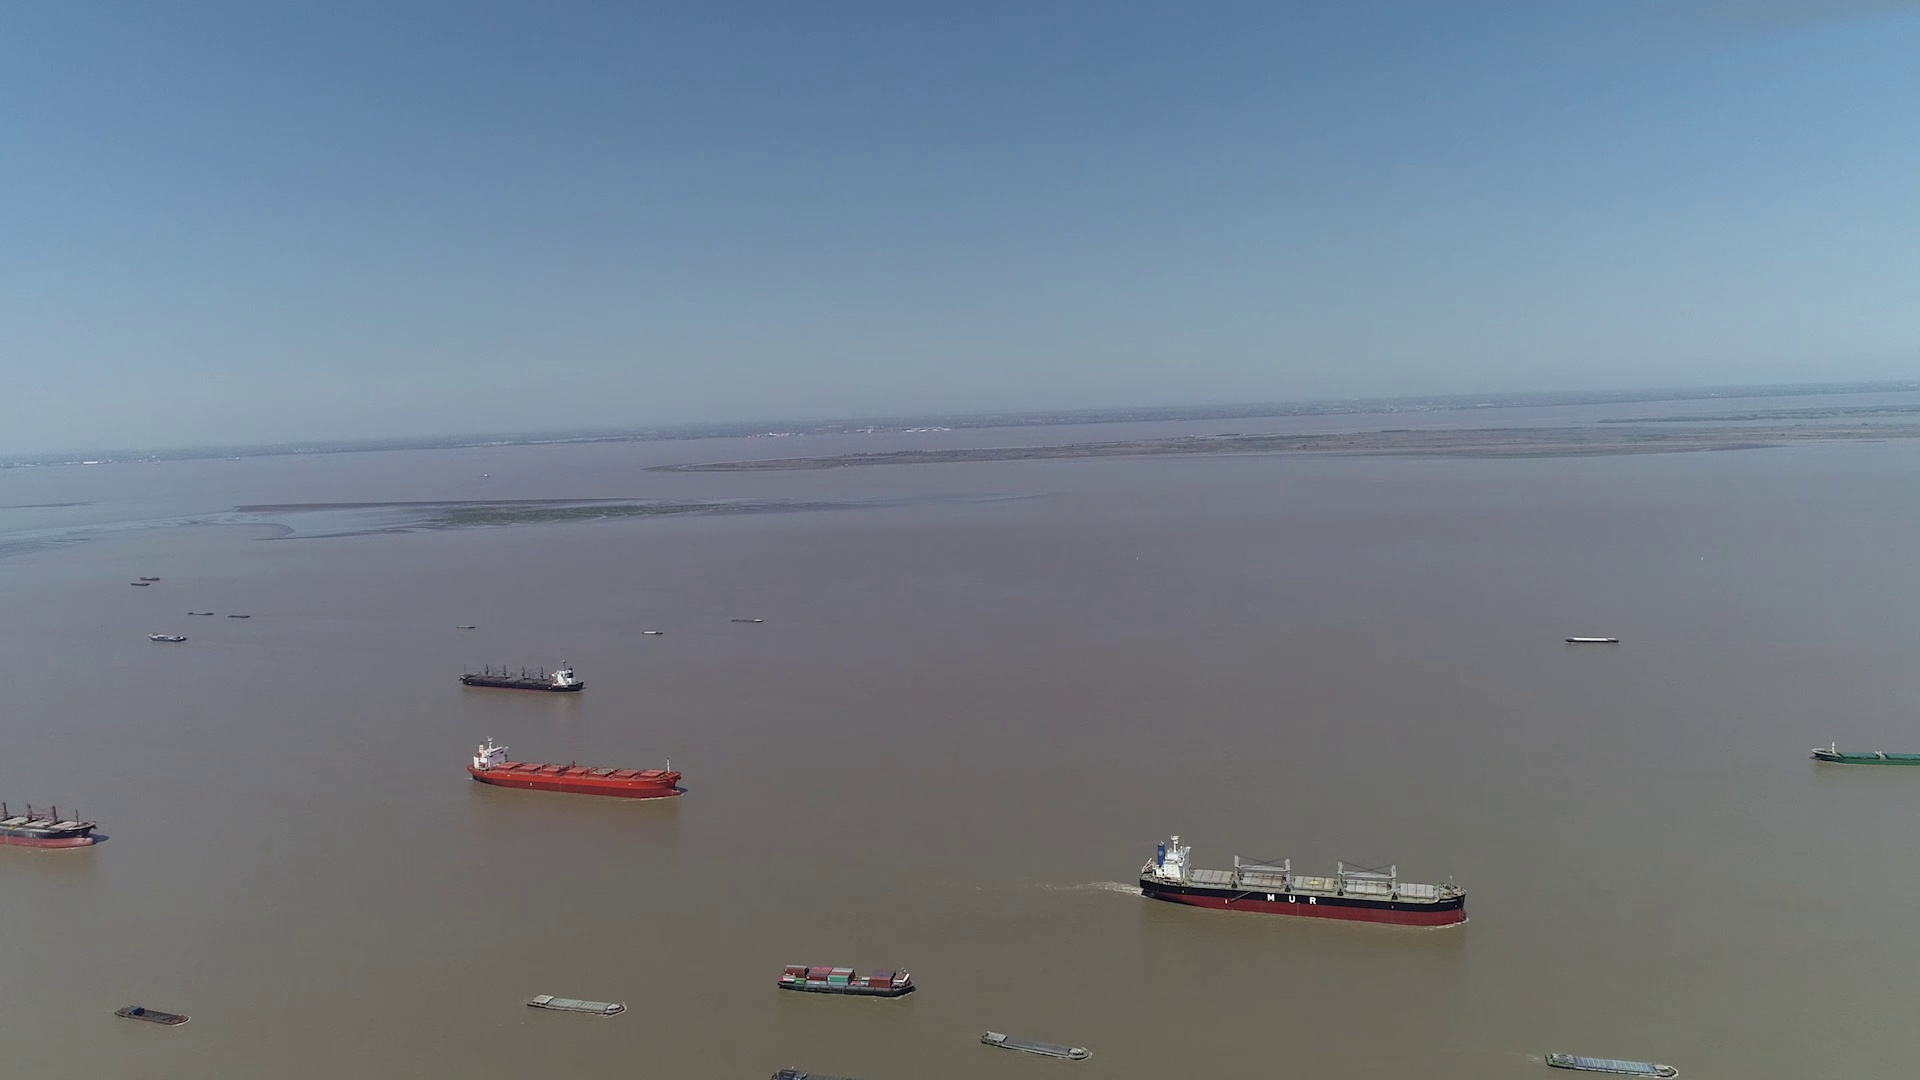ship: (1139, 835, 1465, 928), (468, 735, 683, 796), (0, 785, 103, 853), (778, 963, 916, 998), (459, 659, 582, 694), (1544, 1050, 1676, 1077), (981, 1030, 1089, 1060), (1811, 742, 1920, 765), (526, 993, 626, 1017), (113, 1006, 190, 1027), (1563, 636, 1617, 645), (150, 632, 186, 644)
